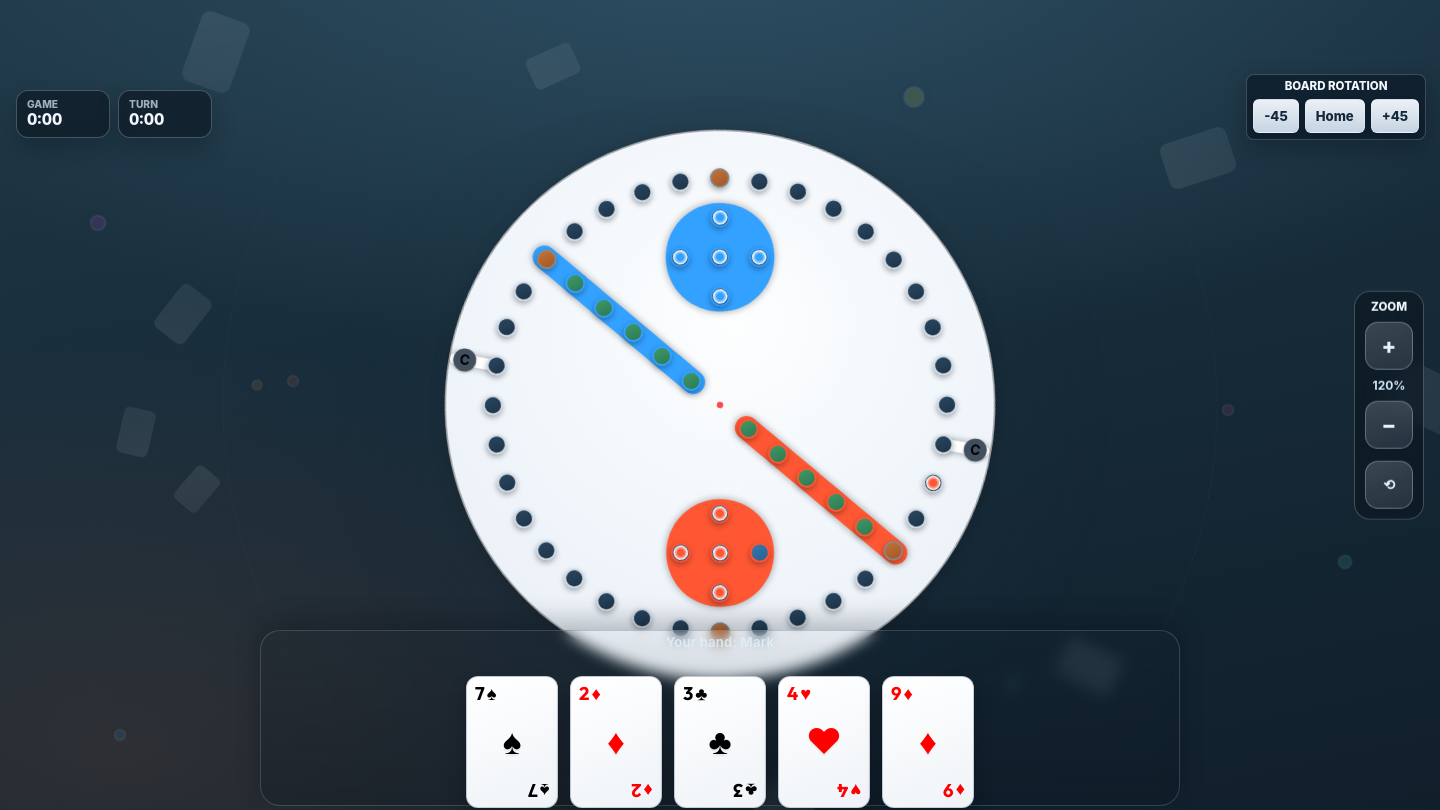
Test: GameController discard availability › prompts for castle entry on first half of seven split when both paths are legal
Click the element with test id "card-p1-7s" at (512, 742), box [466,676,558,808]
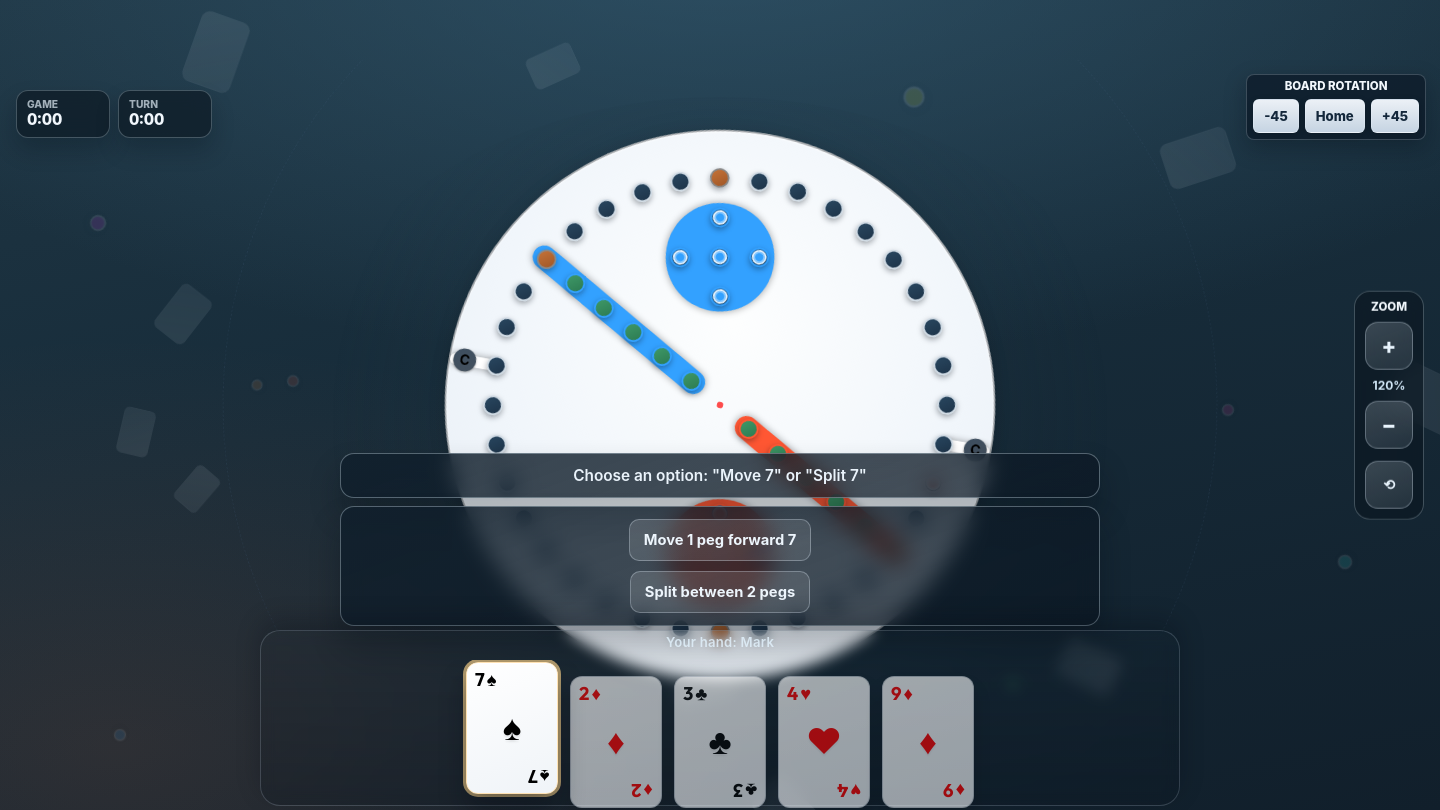
Click the button with test id "seven-option-split" at (720, 592), box [630,571,810,613]
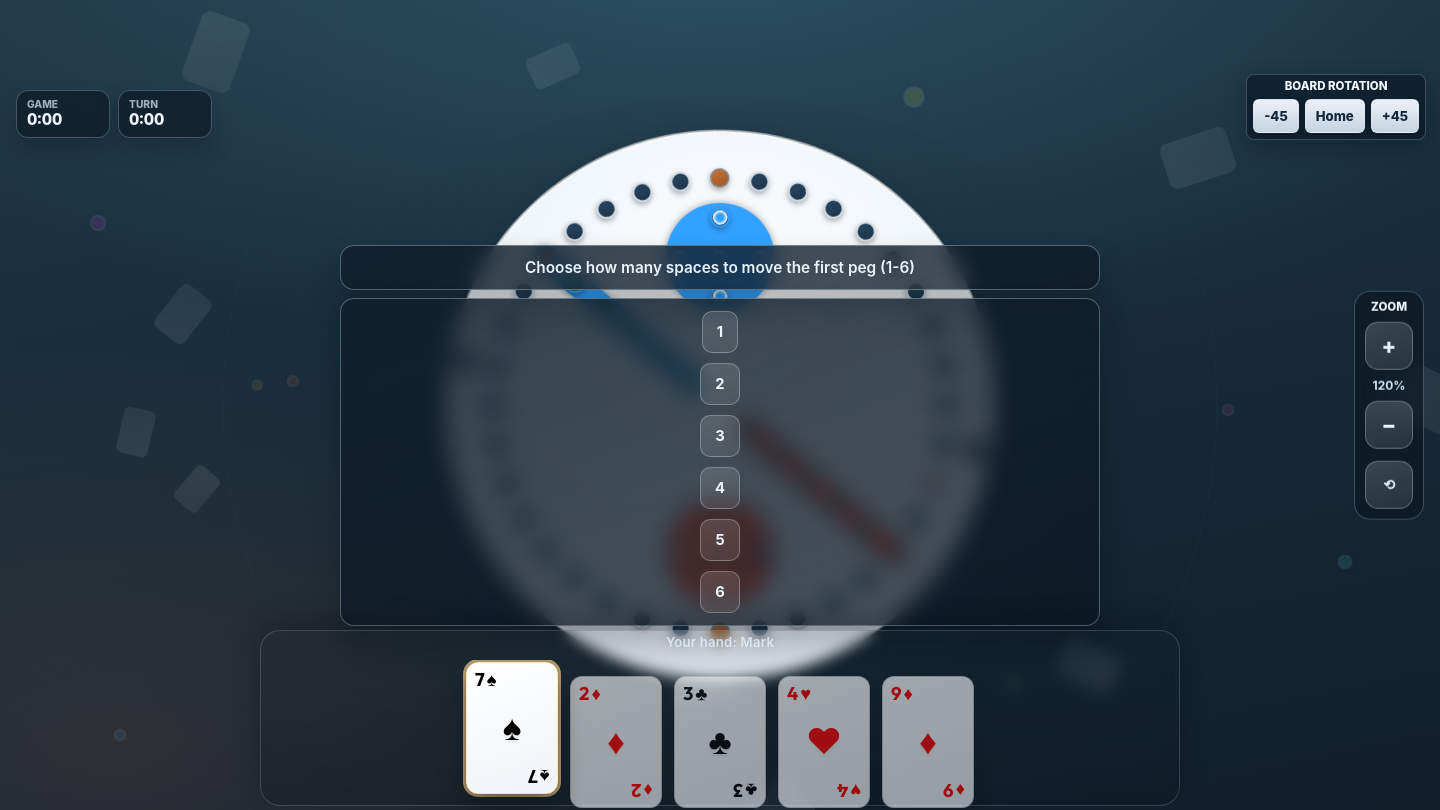
Click the button with test id "seven-step-4" at (720, 488), box [700,467,740,509]
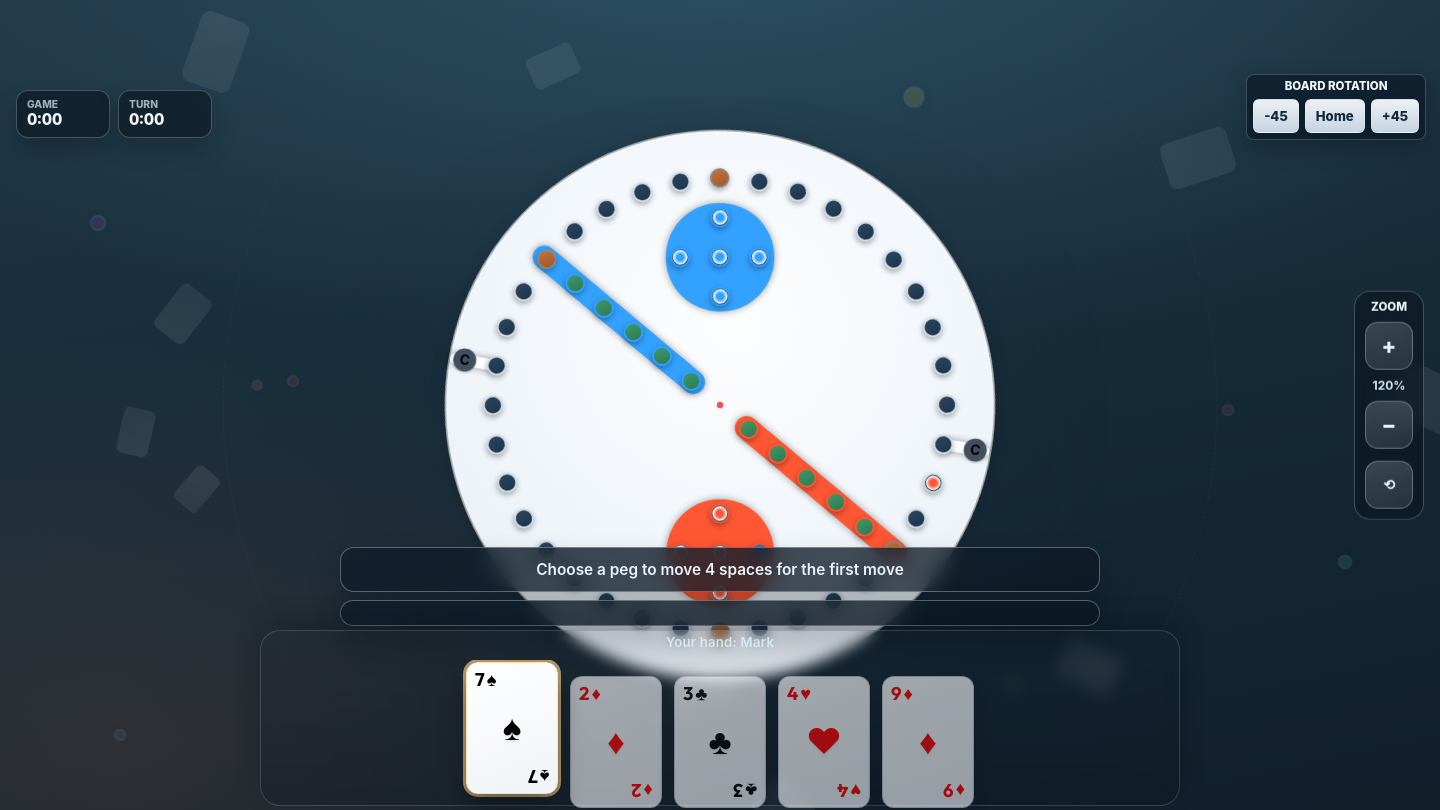
Click the element with test id "peg-player-1-peg-1" at (933, 483), box [925,474,942,491]
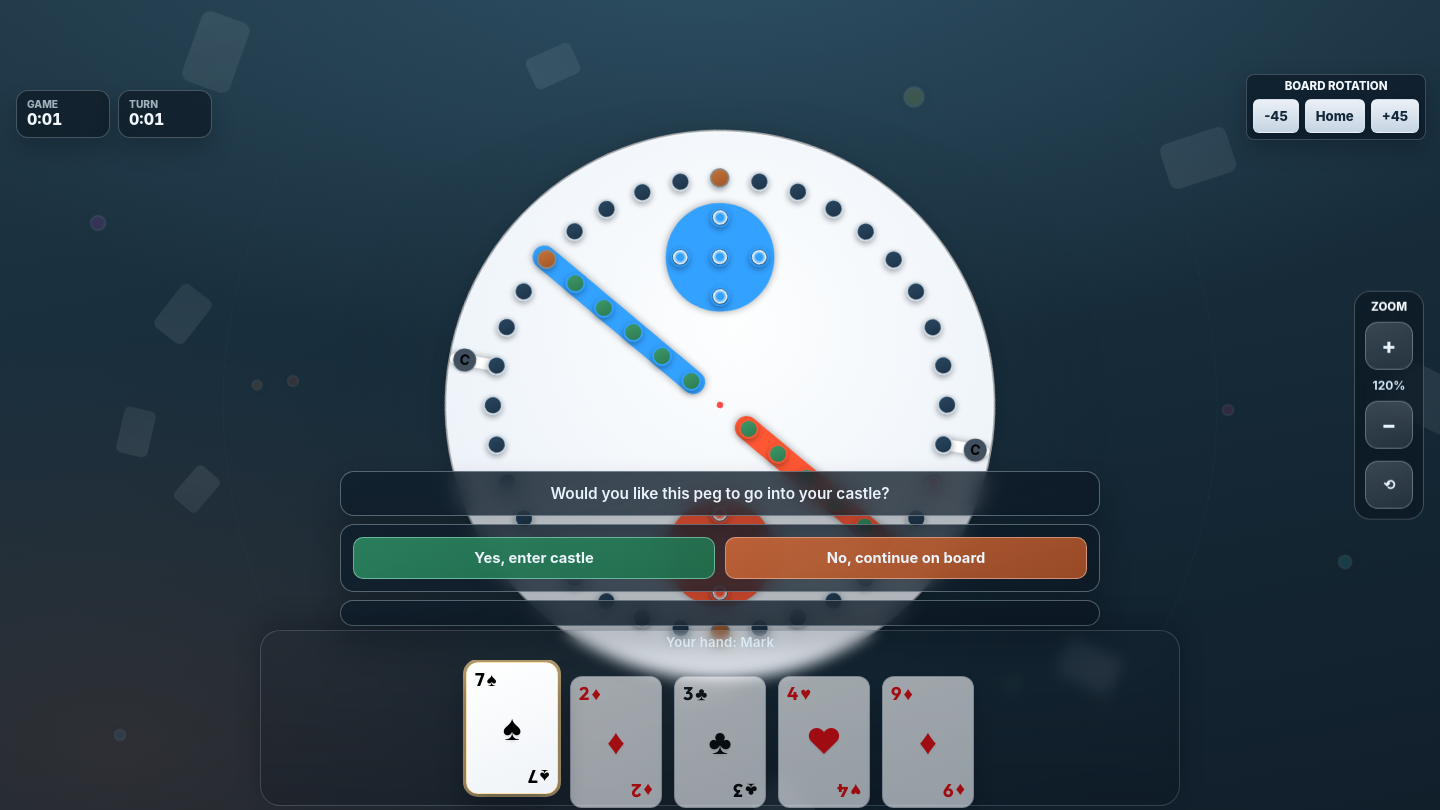
Now the text "Would you like this peg to go into your castle?" is shown, box [550,484,890,503]
Now the button "Yes, enter castle" is shown, box [353,537,715,579]
Now the button "No, continue on board" is shown, box [725,537,1087,579]
